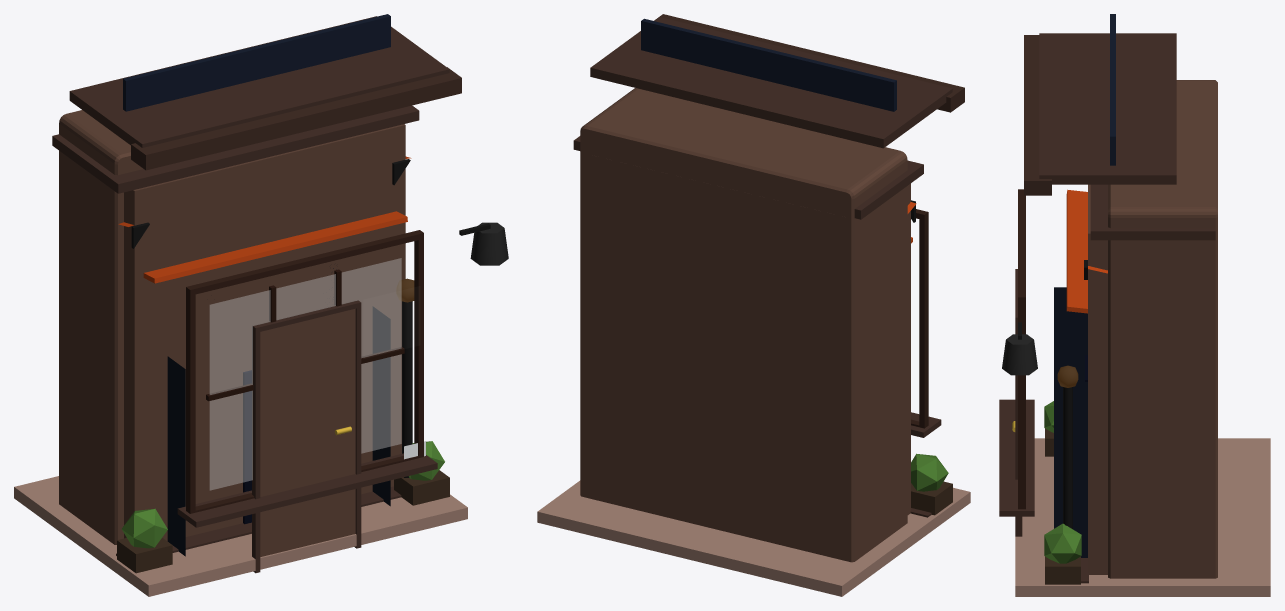
The model's file is artisan.glb.
3 renders of one model, left to right at view 1: azimuth 30°, elevation 25°; view 2: azimuth 150°, elevation 25°; view 3: azimuth 270°, elevation 25°, orthographic. The views are drawn at different scales.
Parts seen in each view (by area): view 1: object 33, FacadeBody, Roof_Style, Door_Leaf (×2), FacadeGlass, Trim, Sign_Plane, Interior_Recess, object 38, Door_Frame, object 9, Awning_Canopy (+11 smaller); view 2: object 33, FacadeBody, Roof_Style, Trim, Sign_Plane, object 7, object 38, Foliage_Left, Planter_Left; view 3: FacadeBody, Roof_Style, Trim, object 33, Interior_Recess, object 9, Awning_Canopy, object 38, Lantern_Housing (×2), object 39, object 8, Foliage_Right (+4 smaller).
Part boxes in pixels (x1,y1,x2,y2): object 33: (124, 124, 405, 541); FacadeBody: (59, 110, 143, 544); Roof_Style: (69, 16, 461, 170); Door_Leaf (×2): (243, 308, 355, 556); FacadeGlass: (210, 258, 401, 490); Trim: (14, 476, 467, 596); Sign_Plane: (123, 14, 390, 111); Interior_Recess: (167, 306, 390, 556); object 38: (52, 105, 419, 193); Door_Frame: (252, 300, 361, 573); object 9: (177, 453, 437, 527); Awning_Canopy: (143, 211, 407, 283); object 33: (587, 154, 910, 560); FacadeBody: (580, 88, 907, 562); Roof_Style: (590, 14, 964, 148); Trim: (537, 480, 970, 596); Sign_Plane: (641, 18, 896, 111); object 7: (919, 212, 928, 427); object 38: (573, 136, 923, 219); Foliage_Left: (911, 453, 948, 491); Planter_Left: (911, 481, 952, 515); FacadeBody: (1108, 80, 1217, 578); Roof_Style: (1024, 33, 1176, 195); Trim: (1015, 438, 1270, 596); object 33: (1088, 184, 1107, 574); Interior_Recess: (1054, 287, 1087, 557); object 9: (999, 399, 1034, 516); Awning_Canopy: (1066, 189, 1087, 313); object 38: (1090, 184, 1215, 240); Lantern_Housing (×2): (1002, 334, 1078, 387); object 39: (1063, 387, 1072, 529); object 8: (1018, 297, 1025, 509); Foliage_Right: (1044, 523, 1081, 563).
Bounding box in the file's own units: 3.89 × 4.95 × 2.7.
